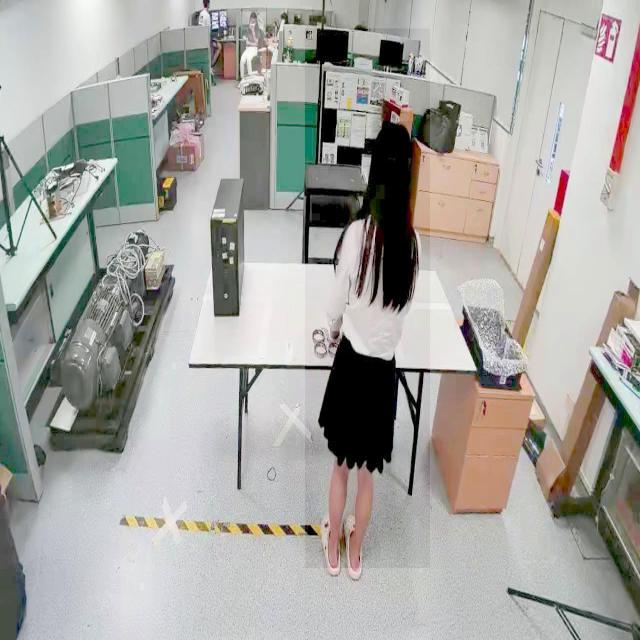head_nohelmet: (371, 121, 413, 159), (250, 10, 258, 18)
person: (304, 28, 430, 569), (240, 12, 266, 79)
